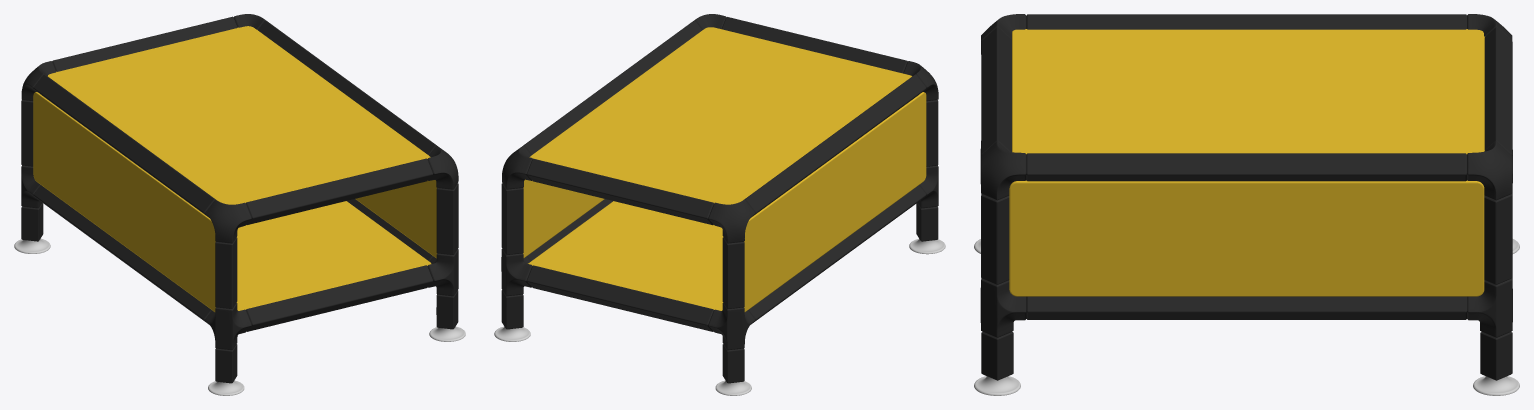
3 renders of one model, left to right at view 1: azimuth 30°, elevation 25°; view 2: azimuth 150°, elevation 25°; view 3: azimuth 270°, elevation 25°, orthographic. The views are drawn at different scales.
Parts seen in each view (by area): view 1: 229x374x79; view 2: 229x374x79; view 3: 229x374x79.
Part boxes in pixels (left/top/right/bottom): 229x374x79: left=14, top=14, right=465, bottom=395; 229x374x79: left=494, top=14, right=945, bottom=395; 229x374x79: left=974, top=14, right=1519, bottom=395.
Bounding box in the file's own units: 0.3189 × 0.2183 × 0.4632.
